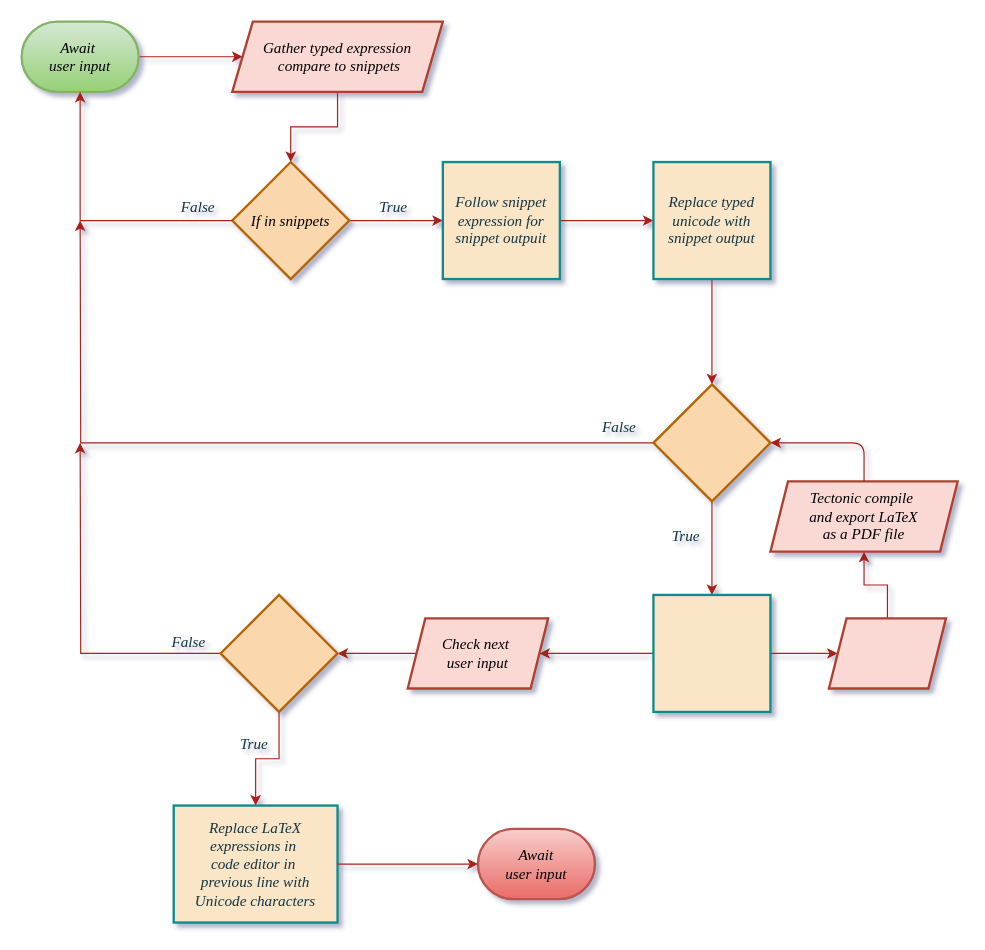
Image size: 985x950. Some labels were removed from this diagram. Each missing label, with the box of its shape:
Call LaTeX Workshop to update the PDF: (652, 593, 771, 713)
If code is compileable: (652, 383, 771, 502)
If newline: (219, 593, 338, 713)
User clicks to export: (827, 617, 947, 689)
